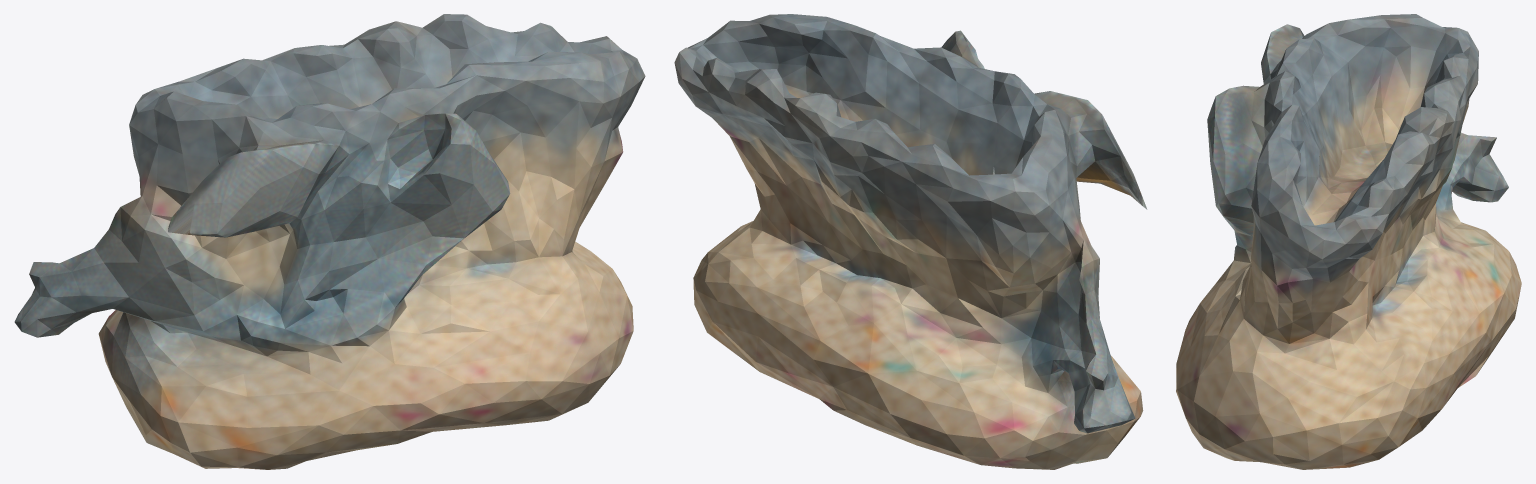
3 views of the same model, side by side, from view 1: azimuth 30°, elevation 25°; view 2: azimuth 150°, elevation 25°; view 3: azimuth 270°, elevation 25° (orthographic). The views are drawn at different scales.
Visible parts, largest first — view 1: Puppenschuh_2k_2k; view 2: Puppenschuh_2k_2k; view 3: Puppenschuh_2k_2k.
Part boxes in pixels (left/top/right/bottom): Puppenschuh_2k_2k: left=14, top=14, right=645, bottom=469; Puppenschuh_2k_2k: left=674, top=14, right=1147, bottom=469; Puppenschuh_2k_2k: left=1176, top=14, right=1521, bottom=469.
Size of the model in its own units: 0.0798 by 0.0501 by 0.0456.
Materials: 1 (1 with a texture image).
